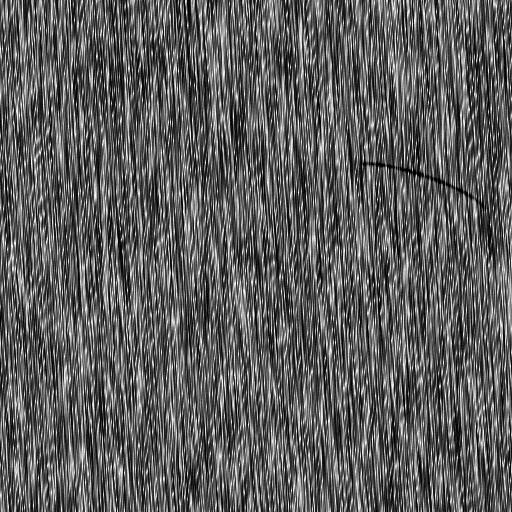DefectTypeC: (361, 160, 489, 208)
